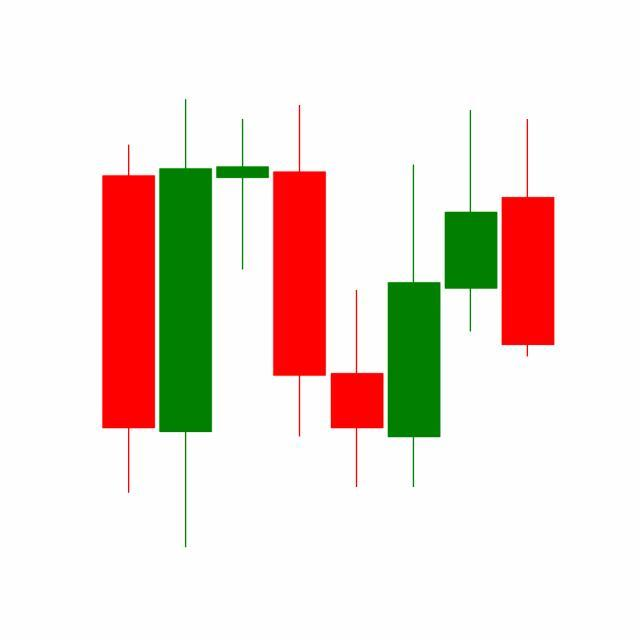Three Outside Up-Down: (328, 106, 500, 492)
